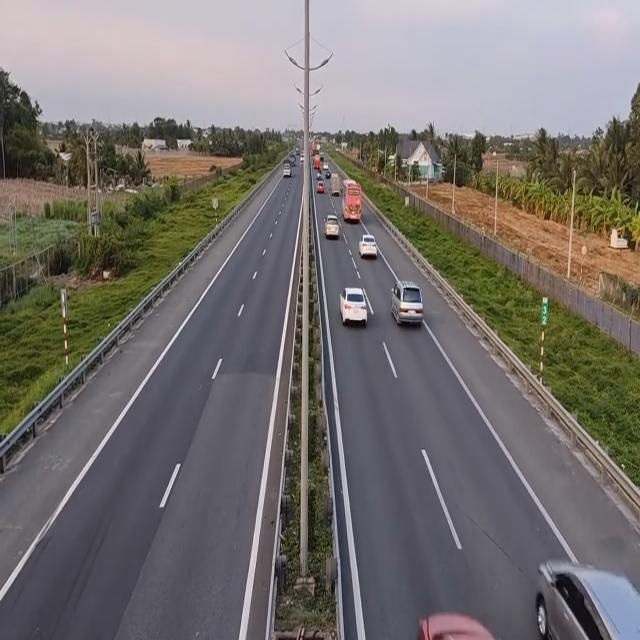bus: (342, 180, 364, 224)
car: (530, 559, 638, 638), (411, 610, 512, 640), (391, 281, 425, 331), (341, 287, 372, 327), (358, 233, 377, 260), (324, 214, 340, 239)
